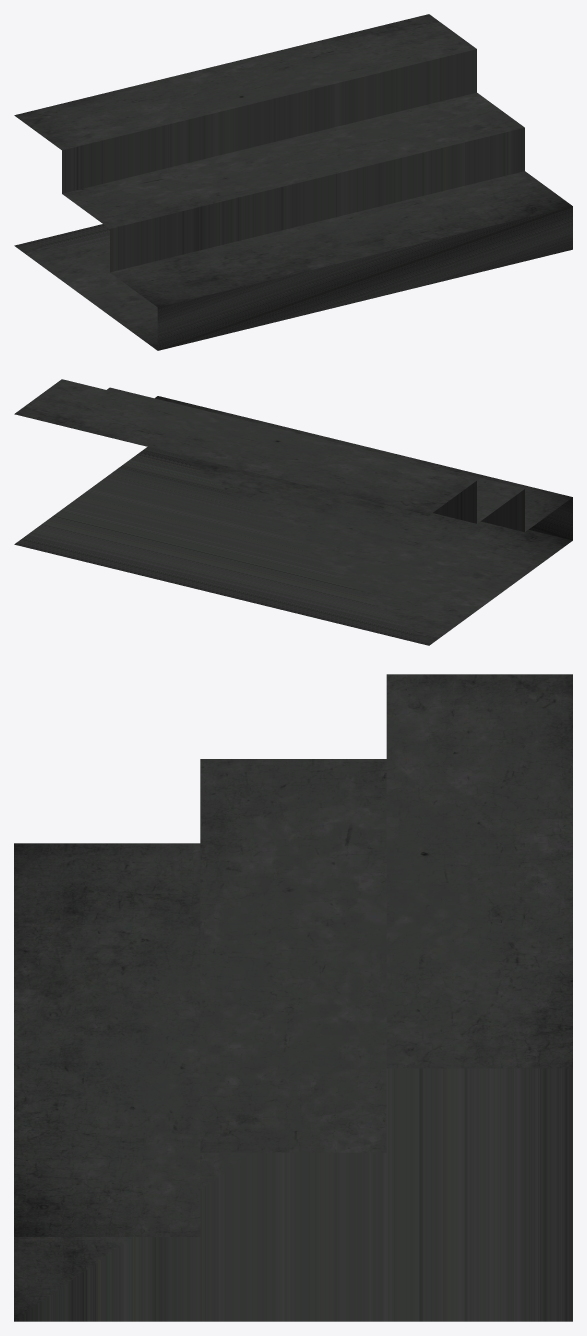
File: entr_stairs.fbx
3 views of the same model, one above another, from view 1: azimuth 30°, elevation 25°; view 2: azimuth 150°, elevation 25°; view 3: azimuth 270°, elevation 25° (orthographic). The views are drawn at different scales.
Visible parts, largest first — view 1: entr_stairs.001; view 2: entr_stairs.001; view 3: entr_stairs.001.
Part boxes in pixels (box(x1,y1,x2,y2)): entr_stairs.001: box(14, 14, 572, 350); entr_stairs.001: box(14, 379, 572, 645); entr_stairs.001: box(14, 674, 572, 1321).
Bounding box in the file's own units: 1.66 × 0.4988 × 0.9976.
Materials: 1 (1 with a texture image).
